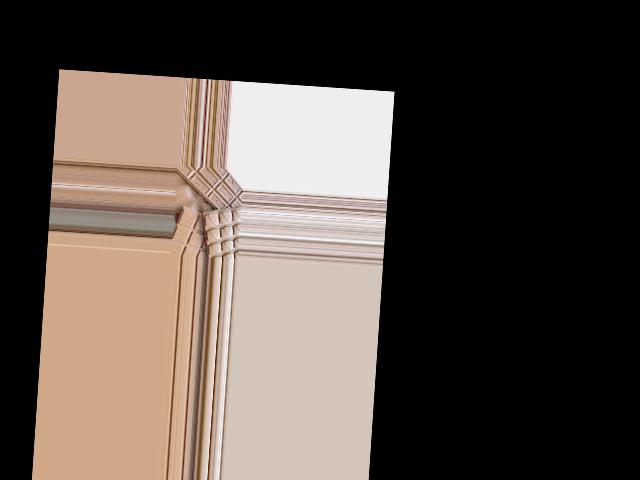chocolate: (174, 206, 217, 258)
